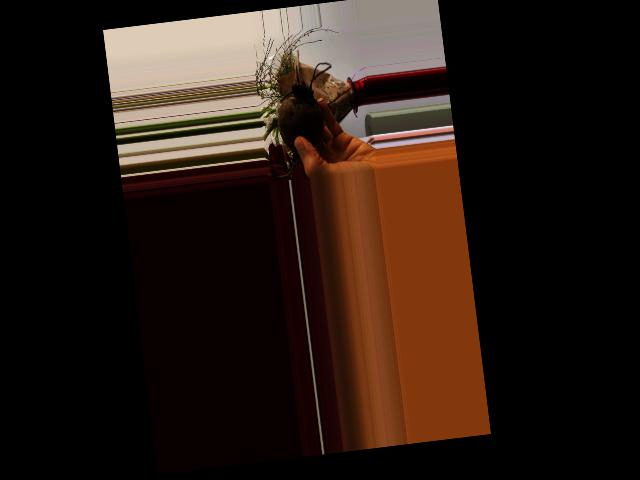beet: (264, 61, 343, 177)
